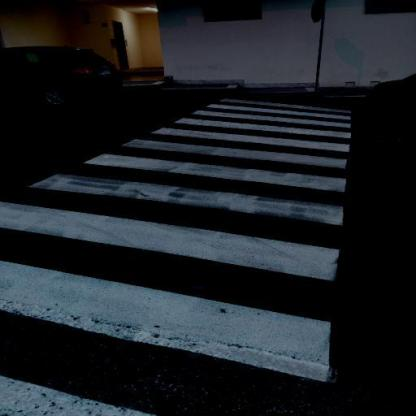crosswalk: (9, 151, 361, 229), (170, 106, 360, 142)
